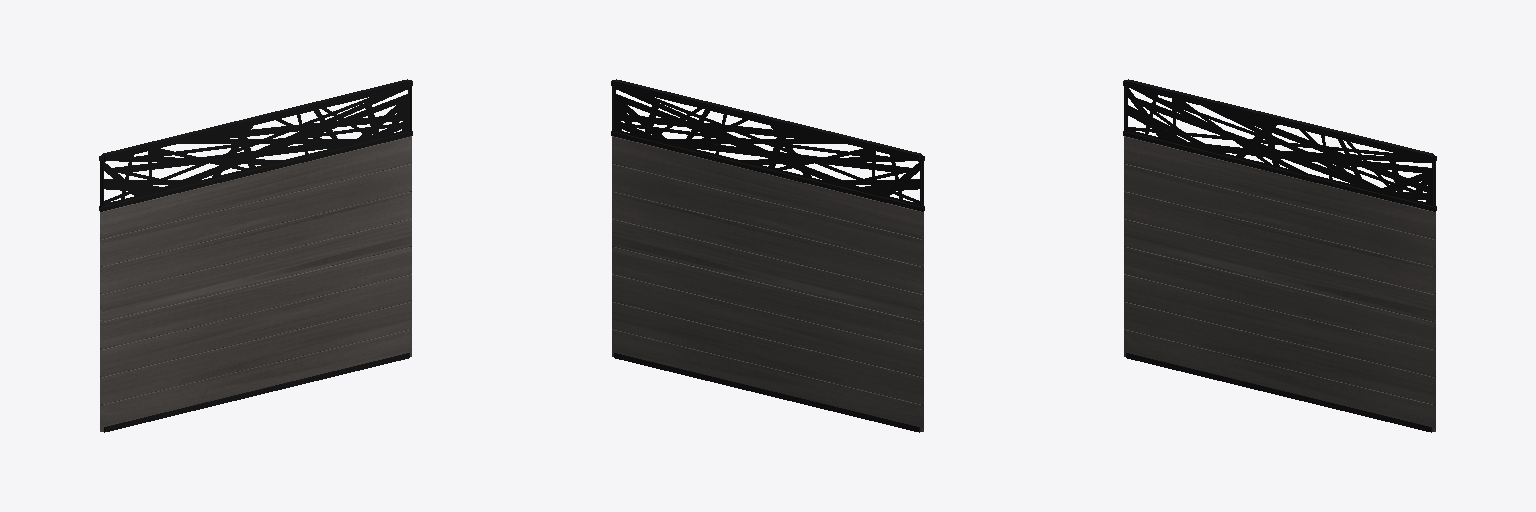
The picture shows the model from 3 angles: view 1: azimuth 30°, elevation 25°; view 2: azimuth 150°, elevation 25°; view 3: azimuth 330°, elevation 25°; orthographic projection.
Parts seen in each view (by area): view 1: lame.563_Cube.591; view 2: lame.563_Cube.591; view 3: lame.563_Cube.591.
Boxes of the visible parts, x1,y1,x2,y2 form: lame.563_Cube.591: [99, 79, 412, 432]; lame.563_Cube.591: [611, 79, 924, 432]; lame.563_Cube.591: [1123, 79, 1436, 432].
Size of the model in its own units: 17.9 by 15.18 by 0.2502.
2 materials, 1 textured.